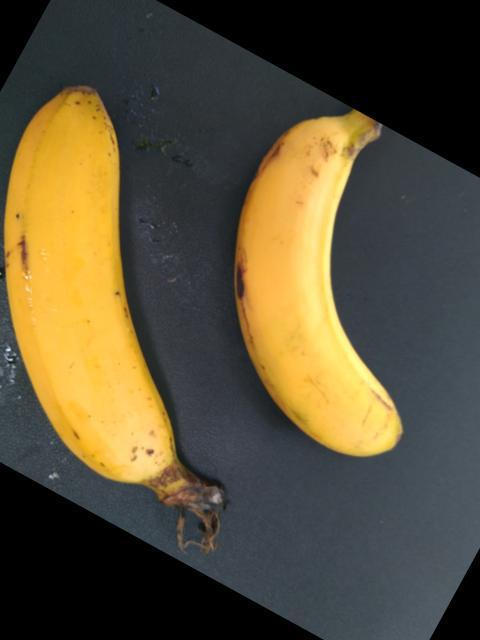freshripe: (207, 89, 479, 530), (0, 75, 220, 545)
